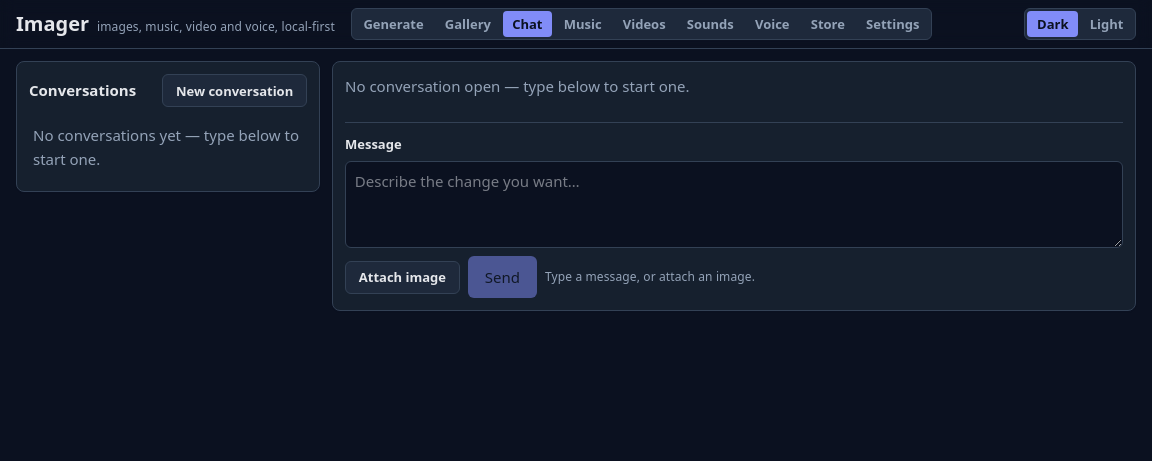
Scenario: a 200 error envelope → toast + the failed turn visible and stored, nothing stored as an image
Type "make the sky darker" into the text box labelled "Message" at (734, 205), box top-left (345, 161), bottom-right (1123, 248)
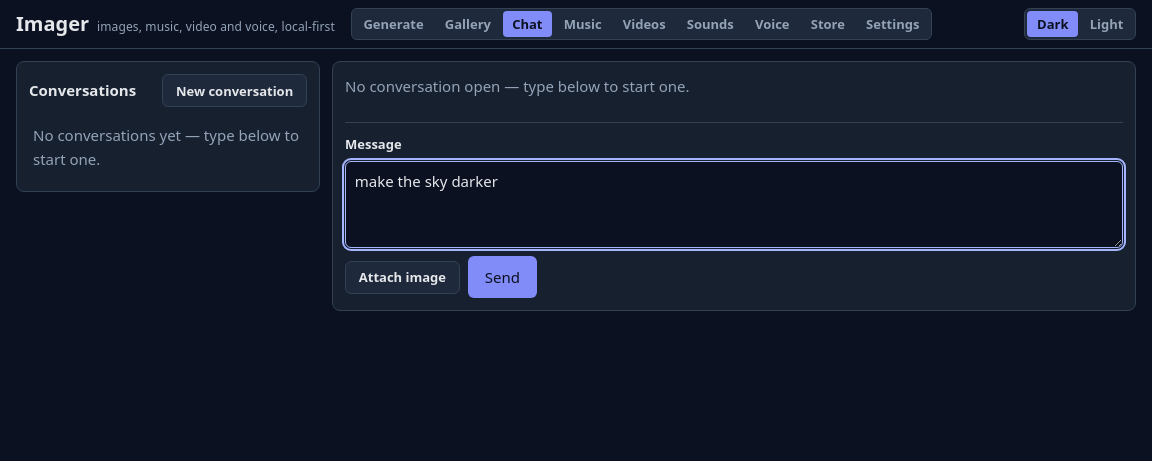
Click the button "Send" at (502, 277), box top-left (468, 256), bottom-right (537, 298)
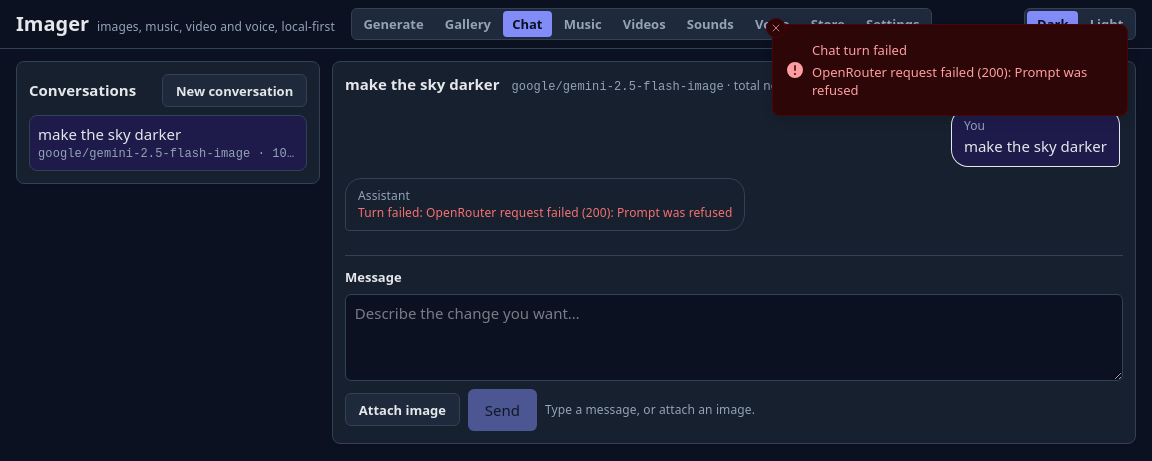
Check: the text "Turn failed: OpenRouter request failed (200): Prompt was refused" is shown, box top-left (358, 204), bottom-right (732, 222)
Check: the text "Chat turn failed" is shown, box top-left (812, 41), bottom-right (907, 59)
Check: the text "Type a message, or attach an image." is shown, box top-left (545, 401), bottom-right (755, 418)
